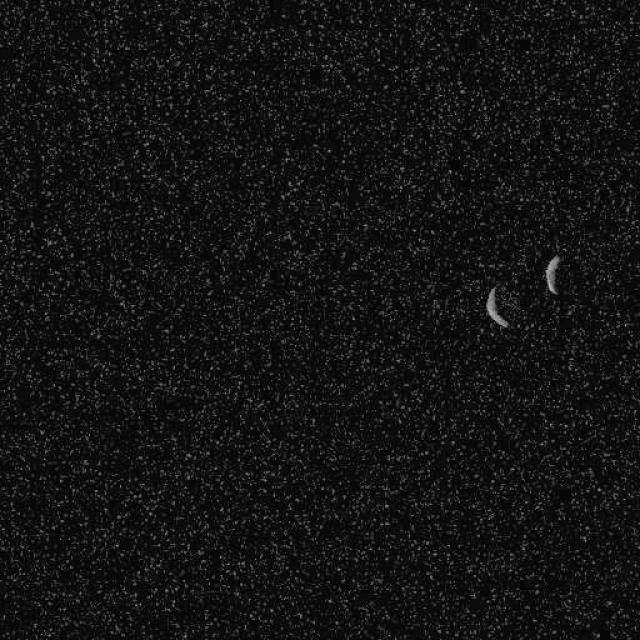D2: (484, 285, 510, 329), (544, 254, 561, 295)
